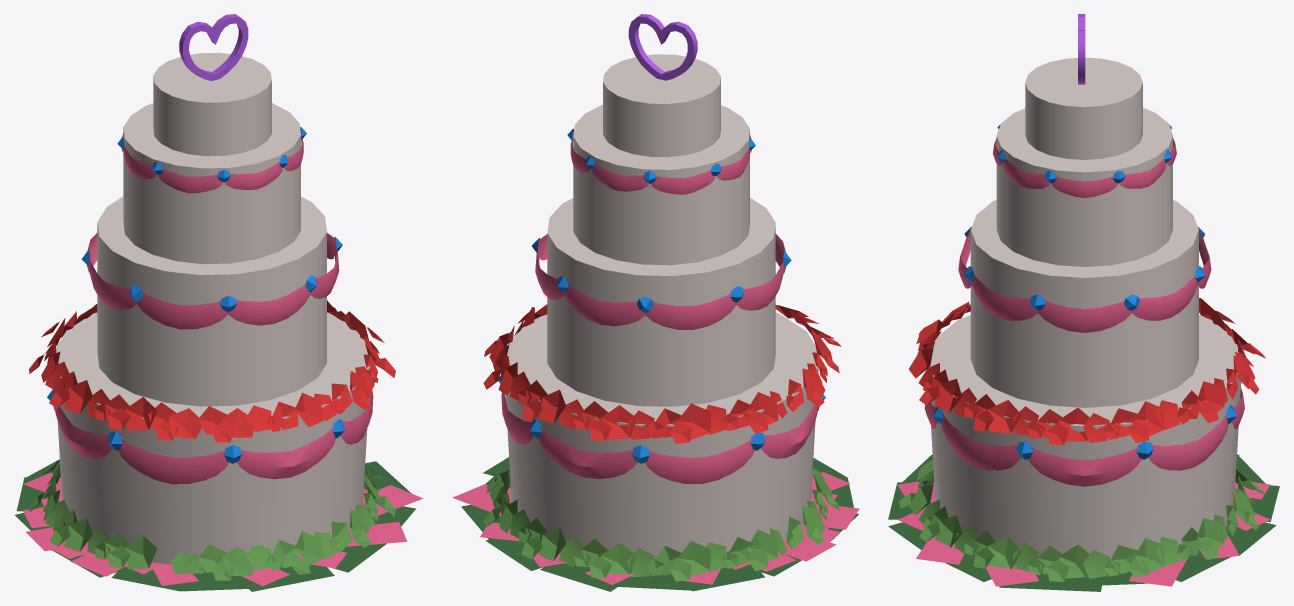
The model's file is Wedding cake.fbx.
The picture shows the model from 3 angles, left to right: view 1: azimuth 30°, elevation 25°; view 2: azimuth 150°, elevation 25°; view 3: azimuth 270°, elevation 25°; orthographic projection.
Visible parts, largest first — view 1: Wedding cake; view 2: Wedding cake; view 3: Wedding cake.
Boxes of the visible parts, box(x1,y1,x2,y2) form: Wedding cake: box(15, 14, 423, 591); Wedding cake: box(452, 14, 859, 591); Wedding cake: box(888, 14, 1279, 591).
Size of the model in its own units: 77.9 by 106 by 77.82.
